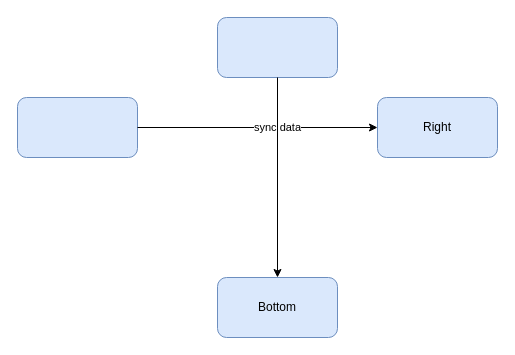
This 515x355 diagram has some shape labels left out. Each missing label, with the centre of its shape:
"Left" belongs at point (77, 127).
"Top" belongs at point (277, 47).
